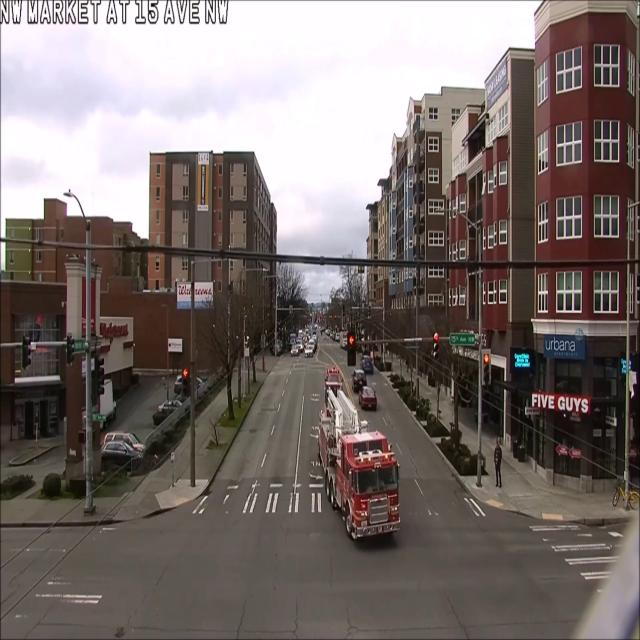bus: (481, 348, 494, 396), (348, 324, 358, 374), (22, 331, 32, 378), (432, 323, 440, 368), (181, 364, 189, 400)
truck: (314, 381, 411, 558)
